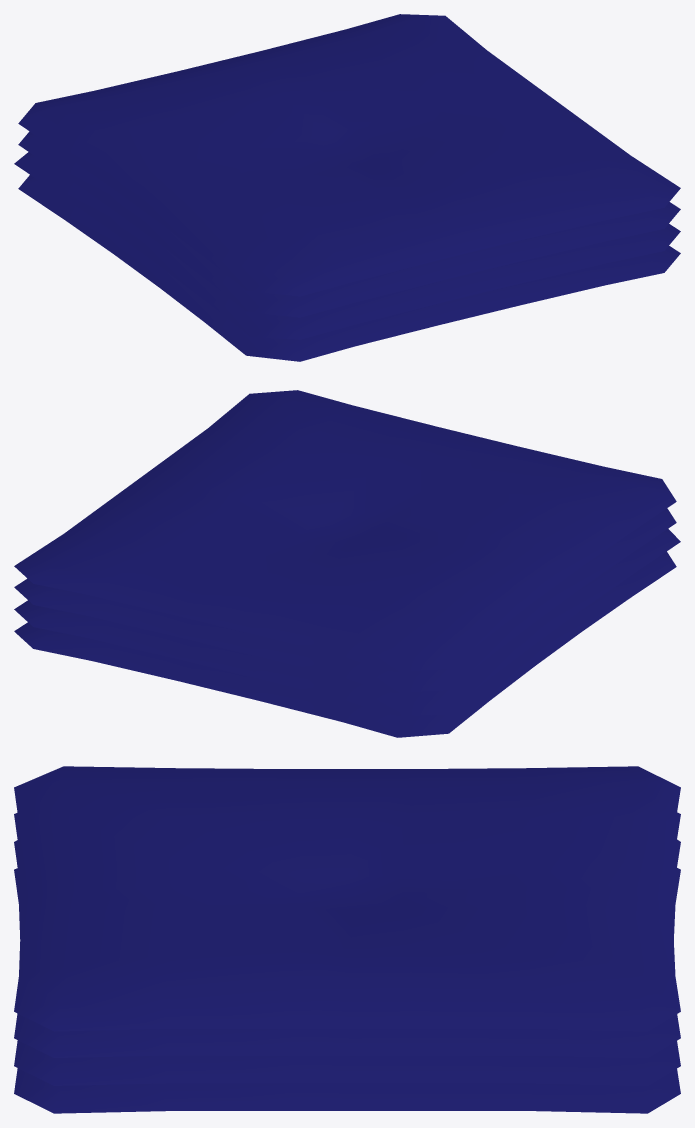
Rendered from tower_zabuton.fbx.
3 views of the same model, one above another, from view 1: azimuth 30°, elevation 25°; view 2: azimuth 150°, elevation 25°; view 3: azimuth 270°, elevation 25° (orthographic). The views are drawn at different scales.
Visible parts, largest first — view 1: zaputon04, zabuton02, zabuton01, zaputon03; view 2: zaputon04, zabuton02, zabuton01, zaputon03; view 3: zaputon04, zabuton02, zabuton01, zaputon03.
Part boxes in pixels (<box>): zaputon04: <box>18,14,680,296</box>; zabuton02: <box>14,152,680,339</box>; zabuton01: <box>18,175,680,361</box>; zaputon03: <box>18,131,680,317</box>; zaputon04: <box>14,390,676,672</box>; zabuton02: <box>14,528,680,715</box>; zabuton01: <box>14,551,676,737</box>; zaputon03: <box>14,508,676,693</box>; zaputon04: <box>14,766,680,1031</box>; zabuton02: <box>14,839,680,1085</box>; zabuton01: <box>14,868,680,1113</box>; zaputon03: <box>14,812,680,1057</box>.
Size of the model in its own units: 59.51 by 11.52 by 63.26.
